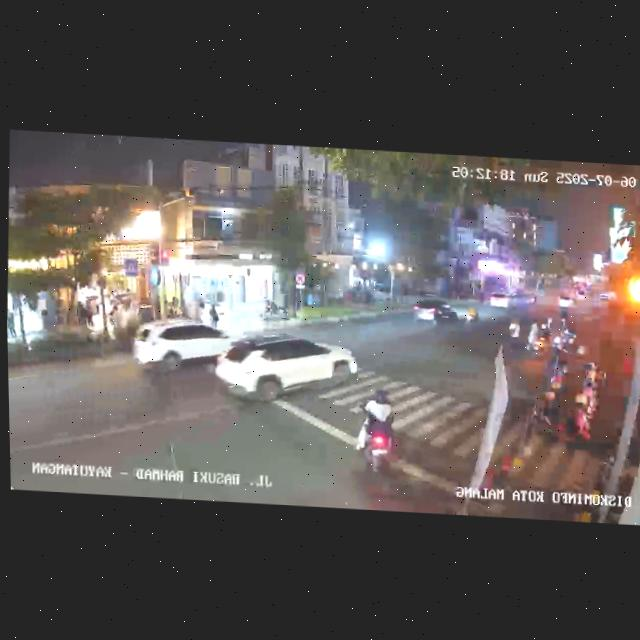car: (213, 330, 360, 412), (127, 316, 232, 382), (411, 293, 458, 327), (487, 290, 530, 314)
motorcycle: (355, 382, 397, 479), (551, 319, 580, 353)
person: (85, 297, 97, 329), (75, 299, 85, 327), (7, 309, 16, 340), (209, 301, 220, 326)
